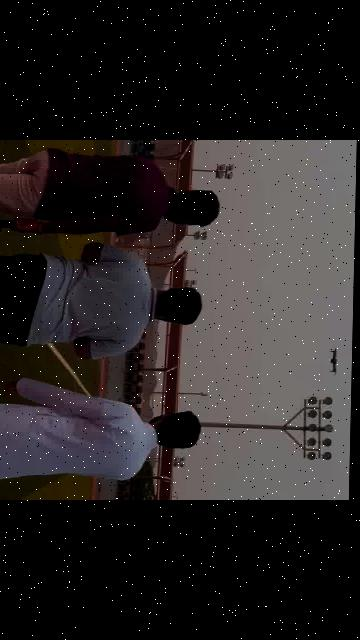drone: (326, 342, 349, 382)
